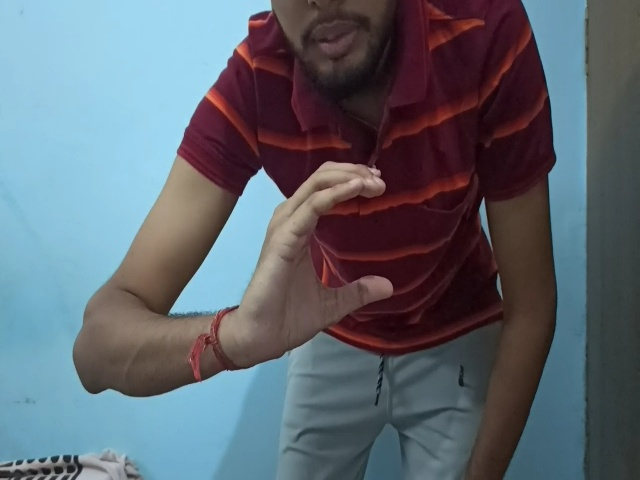C: (235, 161, 393, 362)
